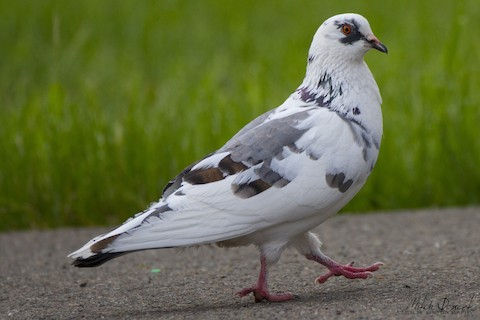pigeon: (60, 2, 392, 306)
